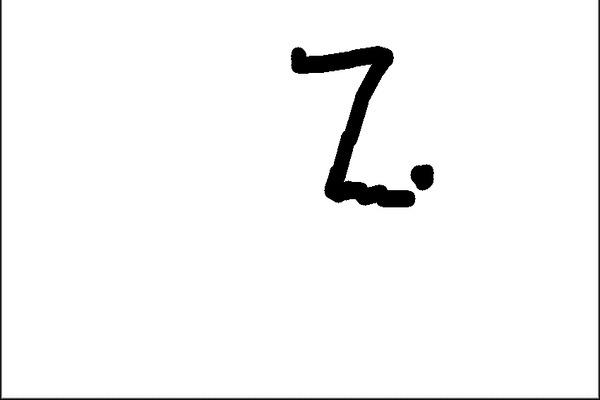Z: (271, 26, 435, 213)
